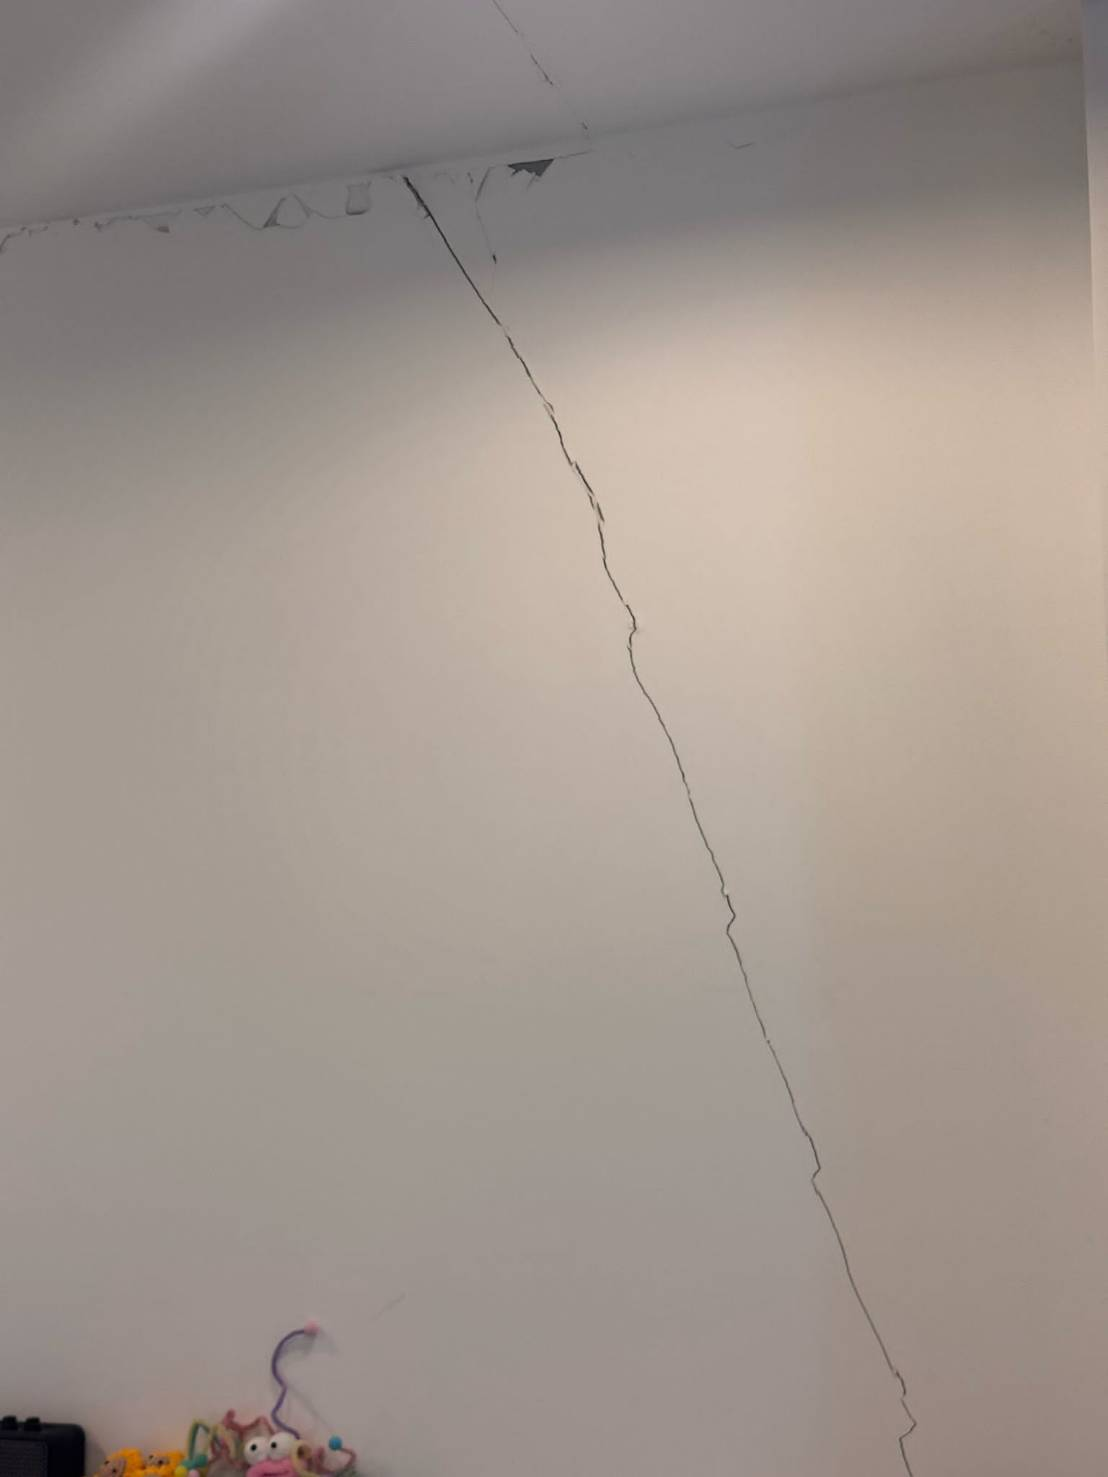Low: (363, 161, 970, 1477)
